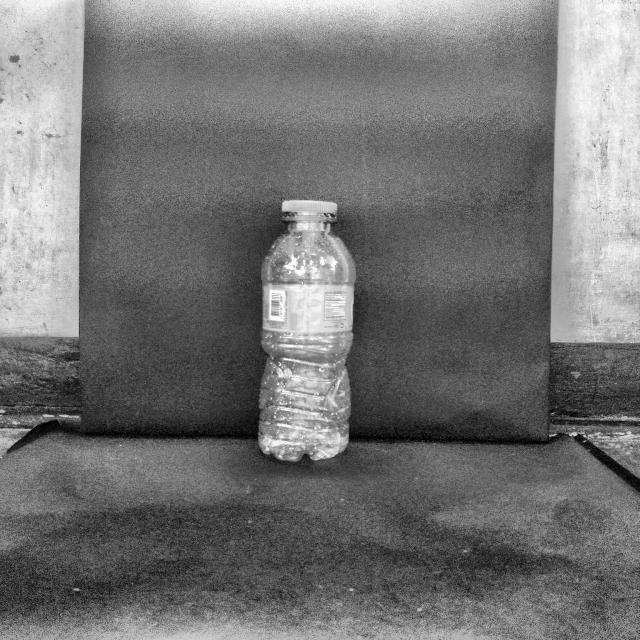Plastic-Bottle: (254, 199, 355, 462)
